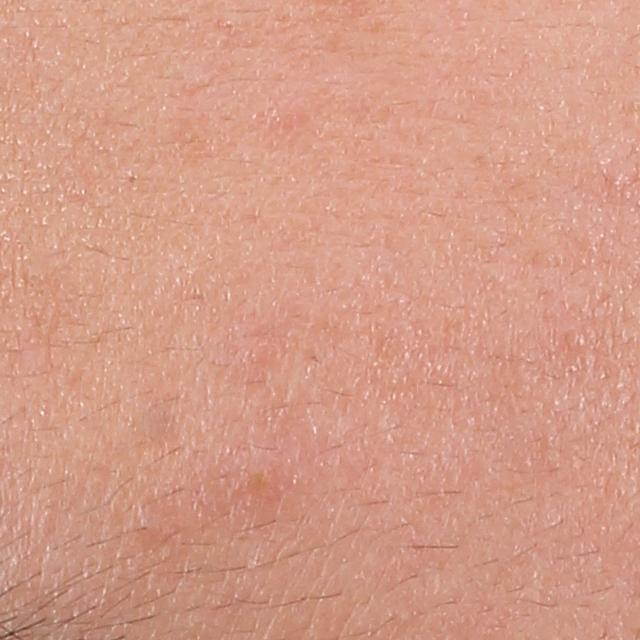comedo: (129, 500, 178, 556), (569, 332, 589, 348)
